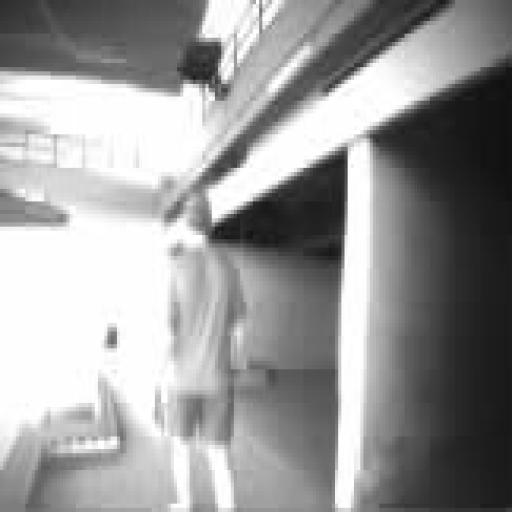human: (162, 189, 246, 511)
